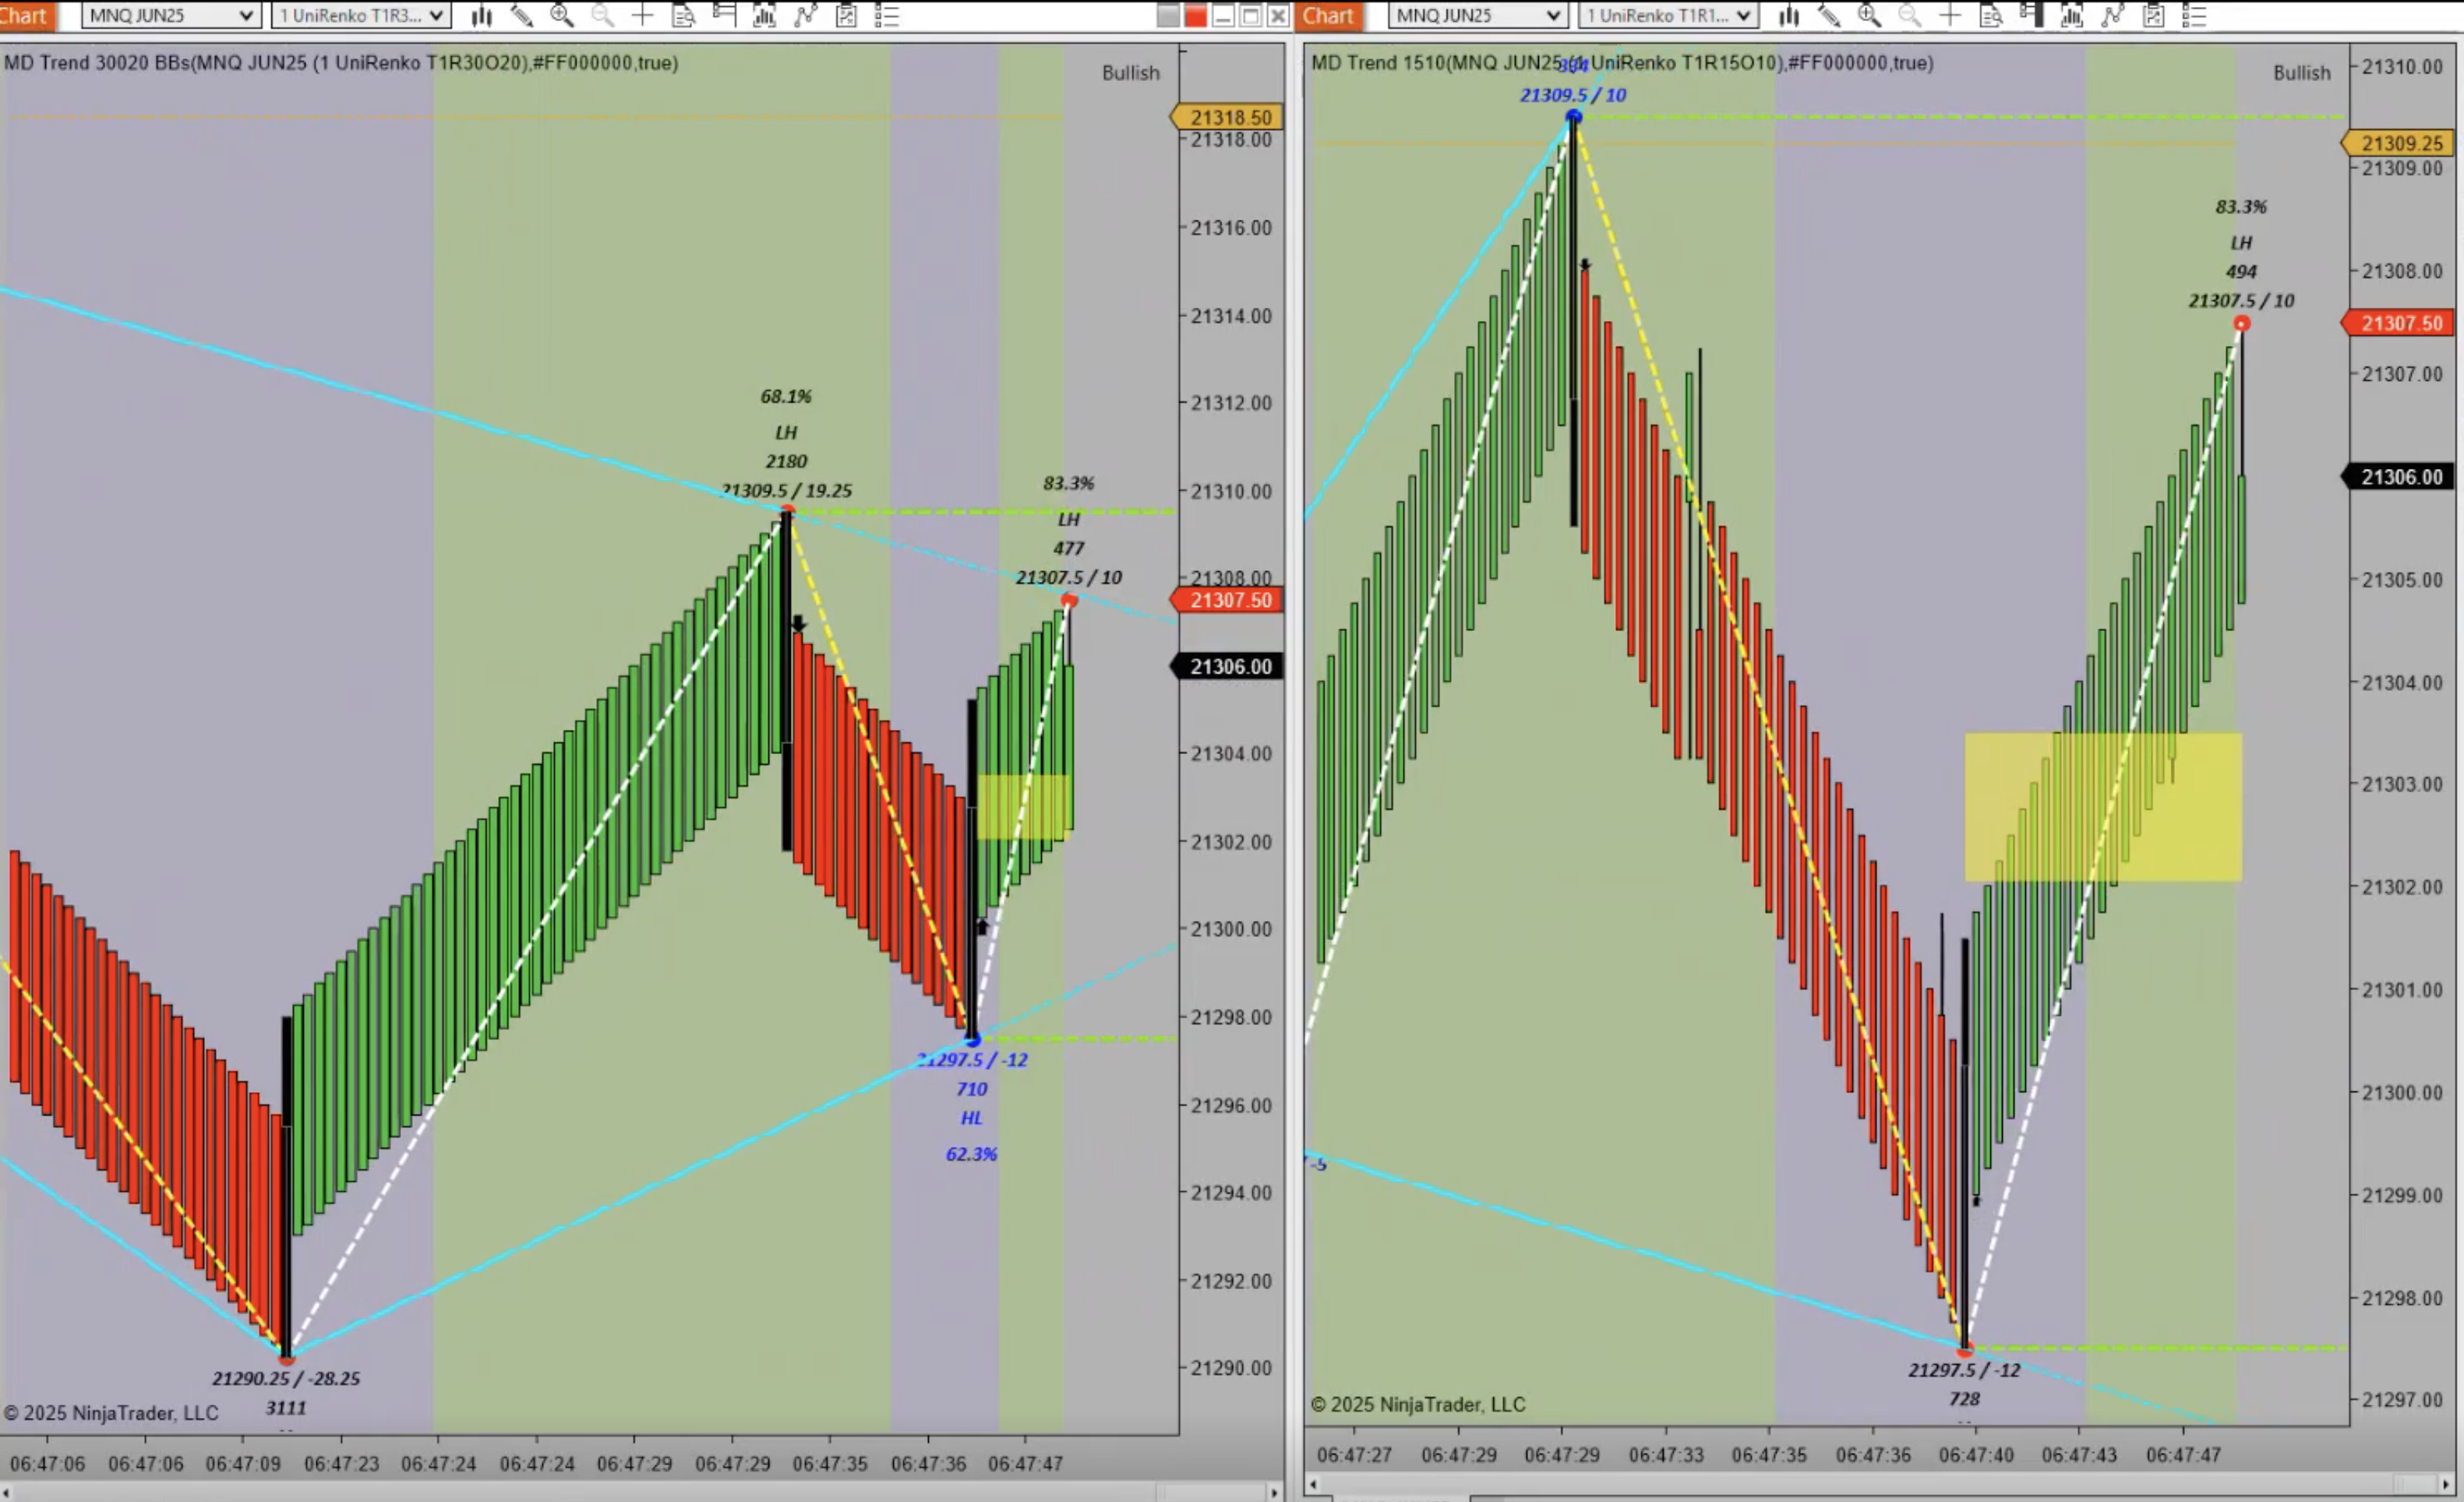candle: (280, 1017, 304, 1360), (1568, 113, 1586, 540), (778, 512, 796, 851), (964, 704, 982, 1043), (1962, 941, 1975, 1353)
